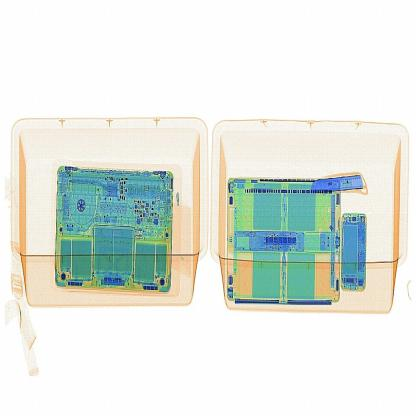pliers: (308, 176, 376, 198)
